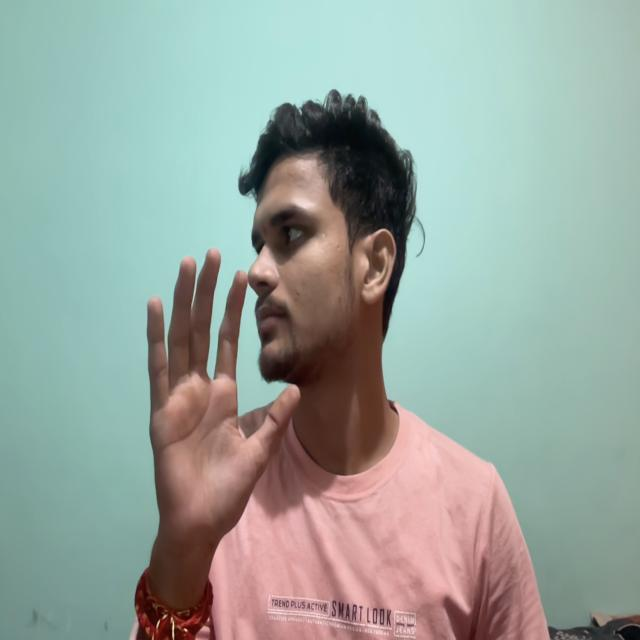hello: (115, 234, 305, 578)
